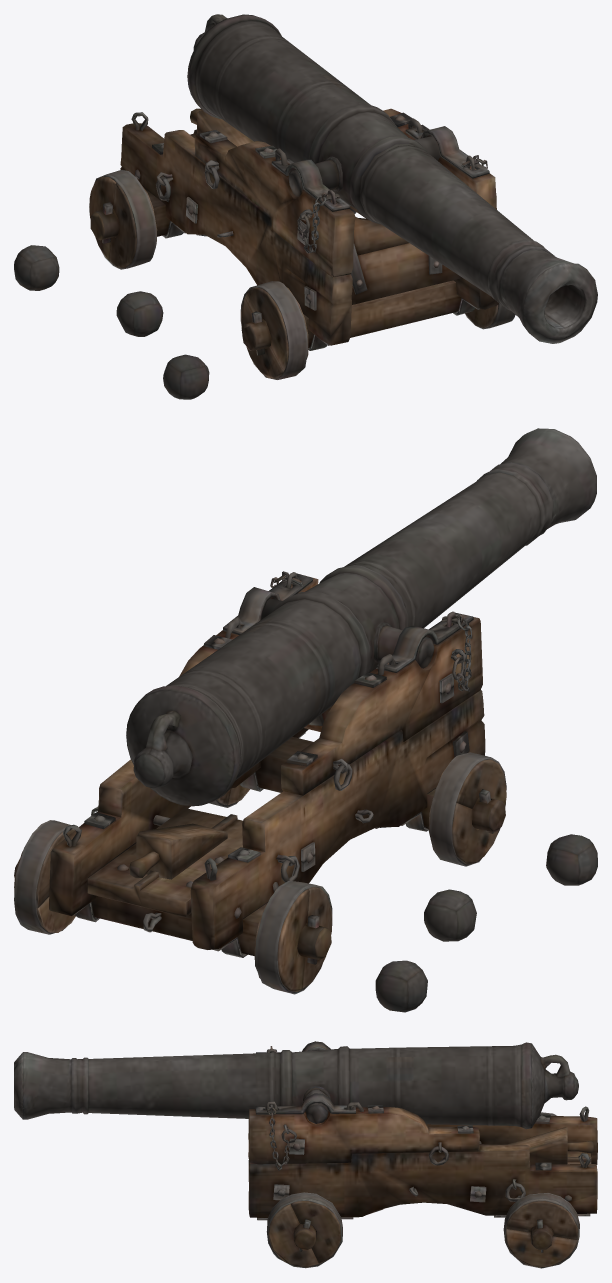
The model's file is cannon-iron-real.c1c484be.glb.
The picture shows the model from 3 angles, top to bottom: view 1: azimuth 30°, elevation 25°; view 2: azimuth 150°, elevation 25°; view 3: azimuth 270°, elevation 25°; orthographic projection. The views are drawn at different scales.
Visible parts, largest first — view 1: model; view 2: model; view 3: model.
Boxes of the visible parts, <box> form: model: <box>14,14,597,399</box>; model: <box>14,428,597,1012</box>; model: <box>14,1041,597,1268</box>.
Bounding box in the file's own units: 1.23 × 0.7759 × 2.3.
Materials: 1 (1 with a texture image).
